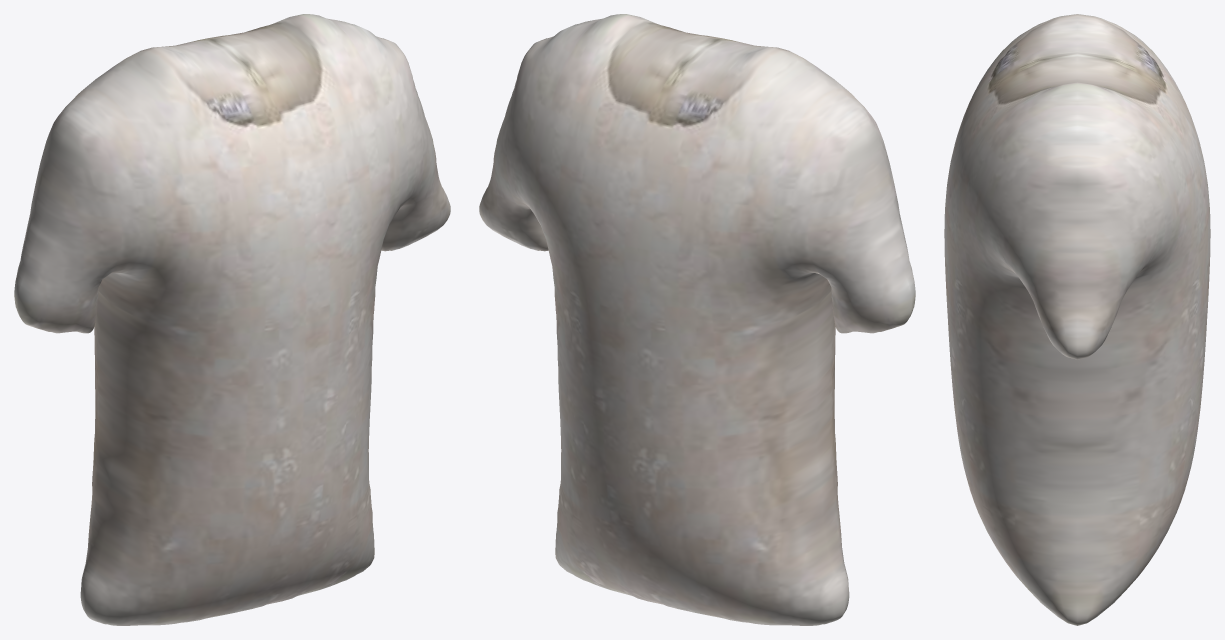
Rendered from 4AP21E056-A11@8=cloth_front.glb.
3 renders of one model, left to right at view 1: azimuth 30°, elevation 25°; view 2: azimuth 150°, elevation 25°; view 3: azimuth 270°, elevation 25°, orthographic. The views are drawn at different scales.
Size of the model in its own units: 4.25 by 5.34 by 2.46.
Materials: 1 (1 with a texture image).
